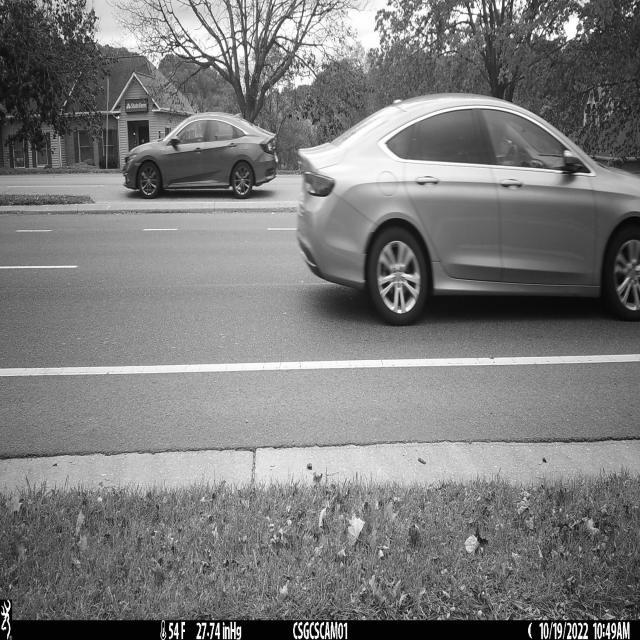Sedan: (295, 93, 640, 328)
